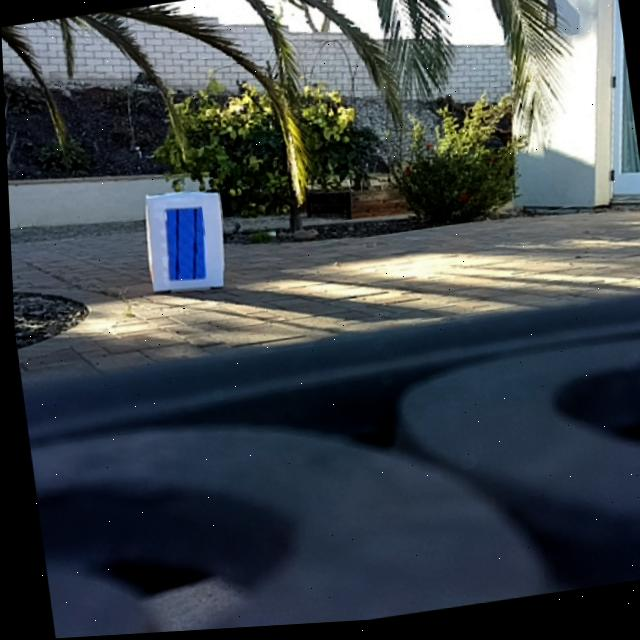led: (158, 206, 206, 286)
